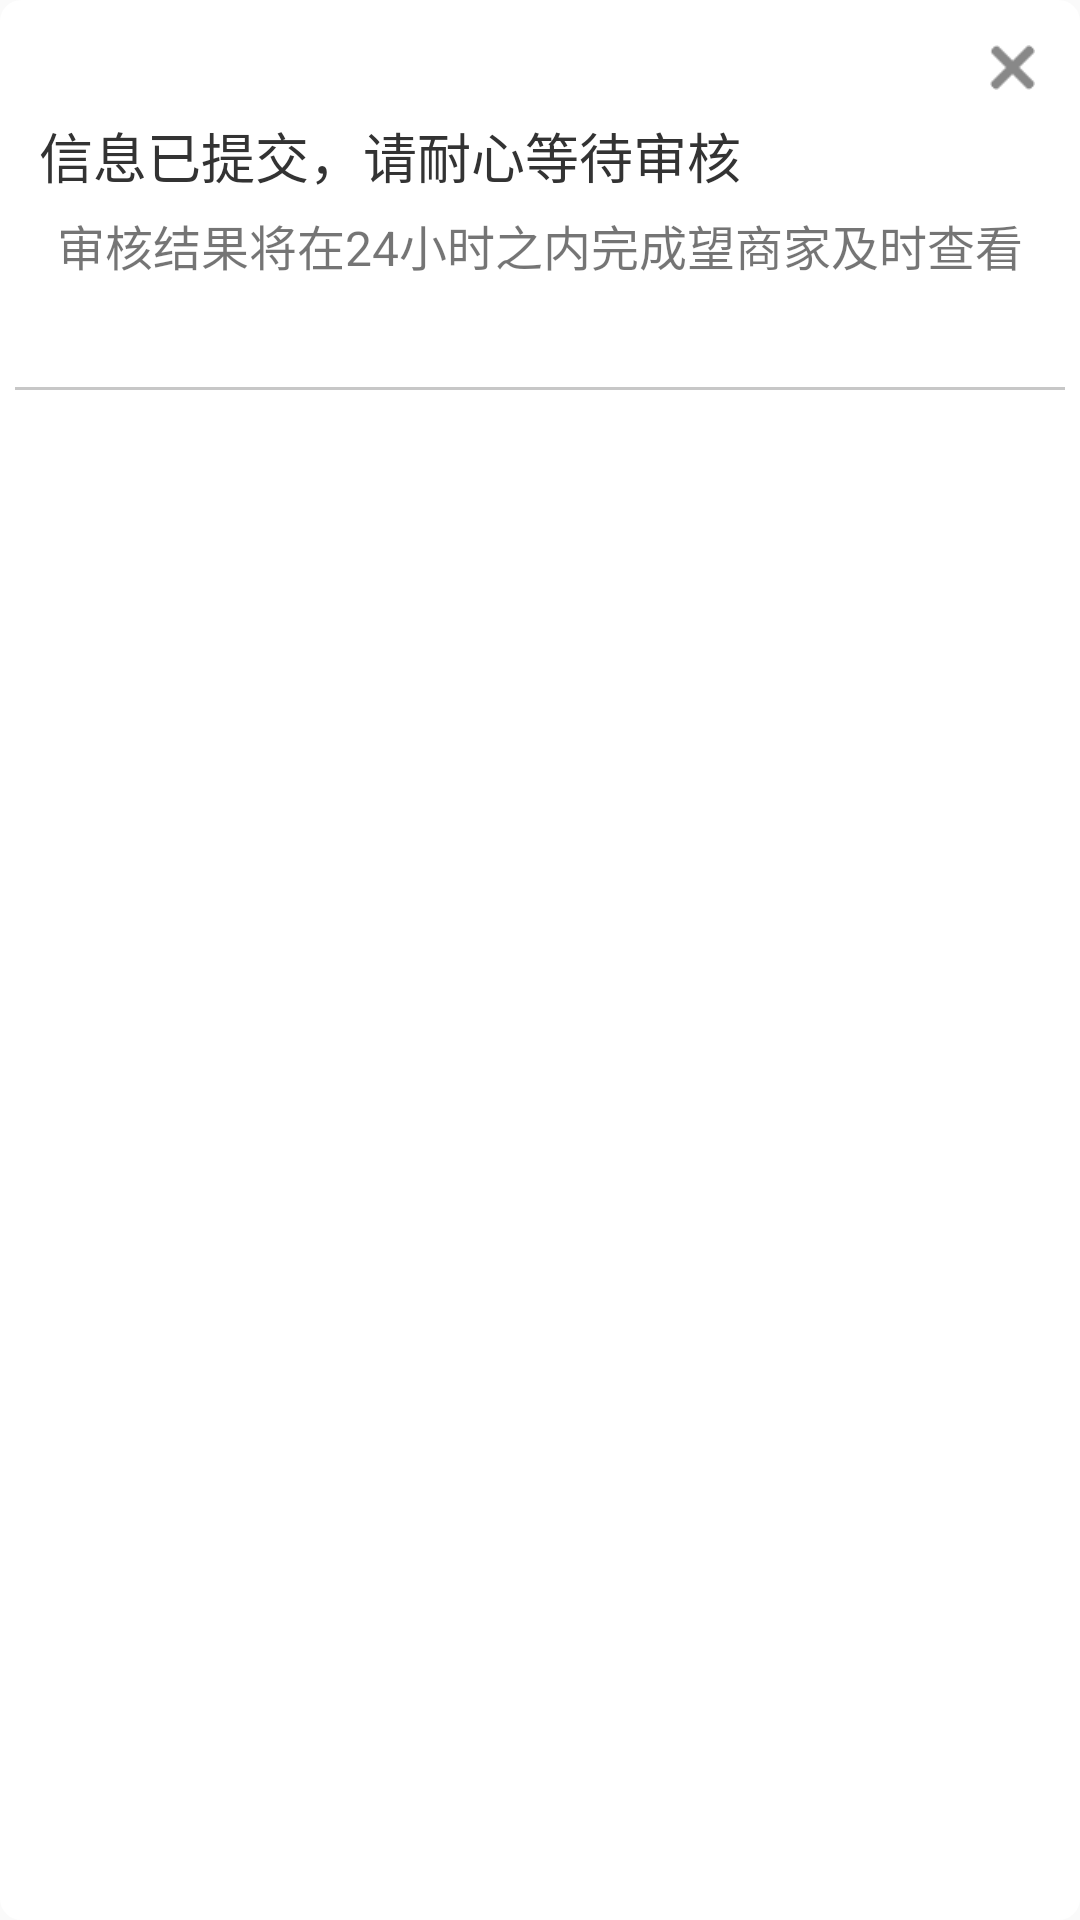

Icon click points for this 1080px×1920px phone screenshot, format point (x, y):
authentication delete: point (1012, 67)
